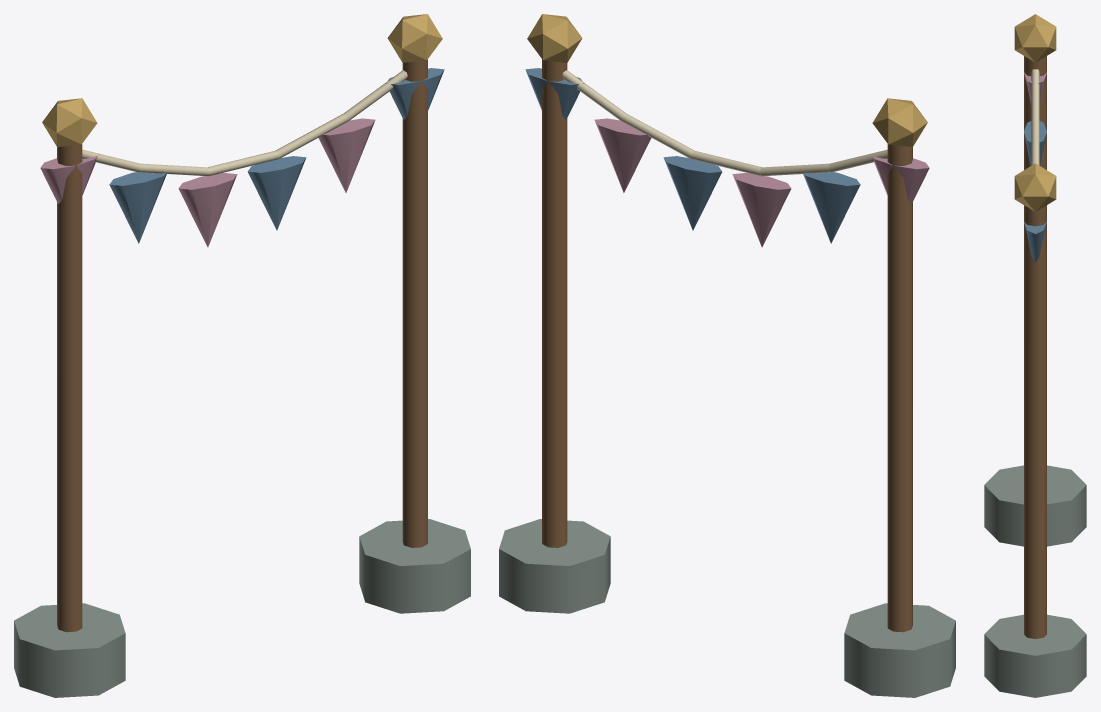
The model's file is decoration-garland.glb.
3 views of the same model, side by side, from view 1: azimuth 30°, elevation 25°; view 2: azimuth 150°, elevation 25°; view 3: azimuth 270°, elevation 25° (orthographic). The views are drawn at different scales.
Visible parts, largest first — view 1: decoration-garland-visual; view 2: decoration-garland-visual; view 3: decoration-garland-visual.
Boxes of the visible parts, x1,y1,x2,y2 form: decoration-garland-visual: (14,14,470,697); decoration-garland-visual: (499,14,955,697); decoration-garland-visual: (984,14,1086,697).
Bounding box in the file's own units: 0.98 × 1.21 × 0.22.
